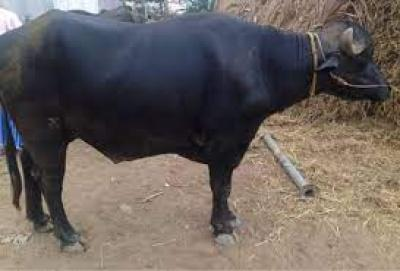buffalo: (0, 10, 390, 248)
